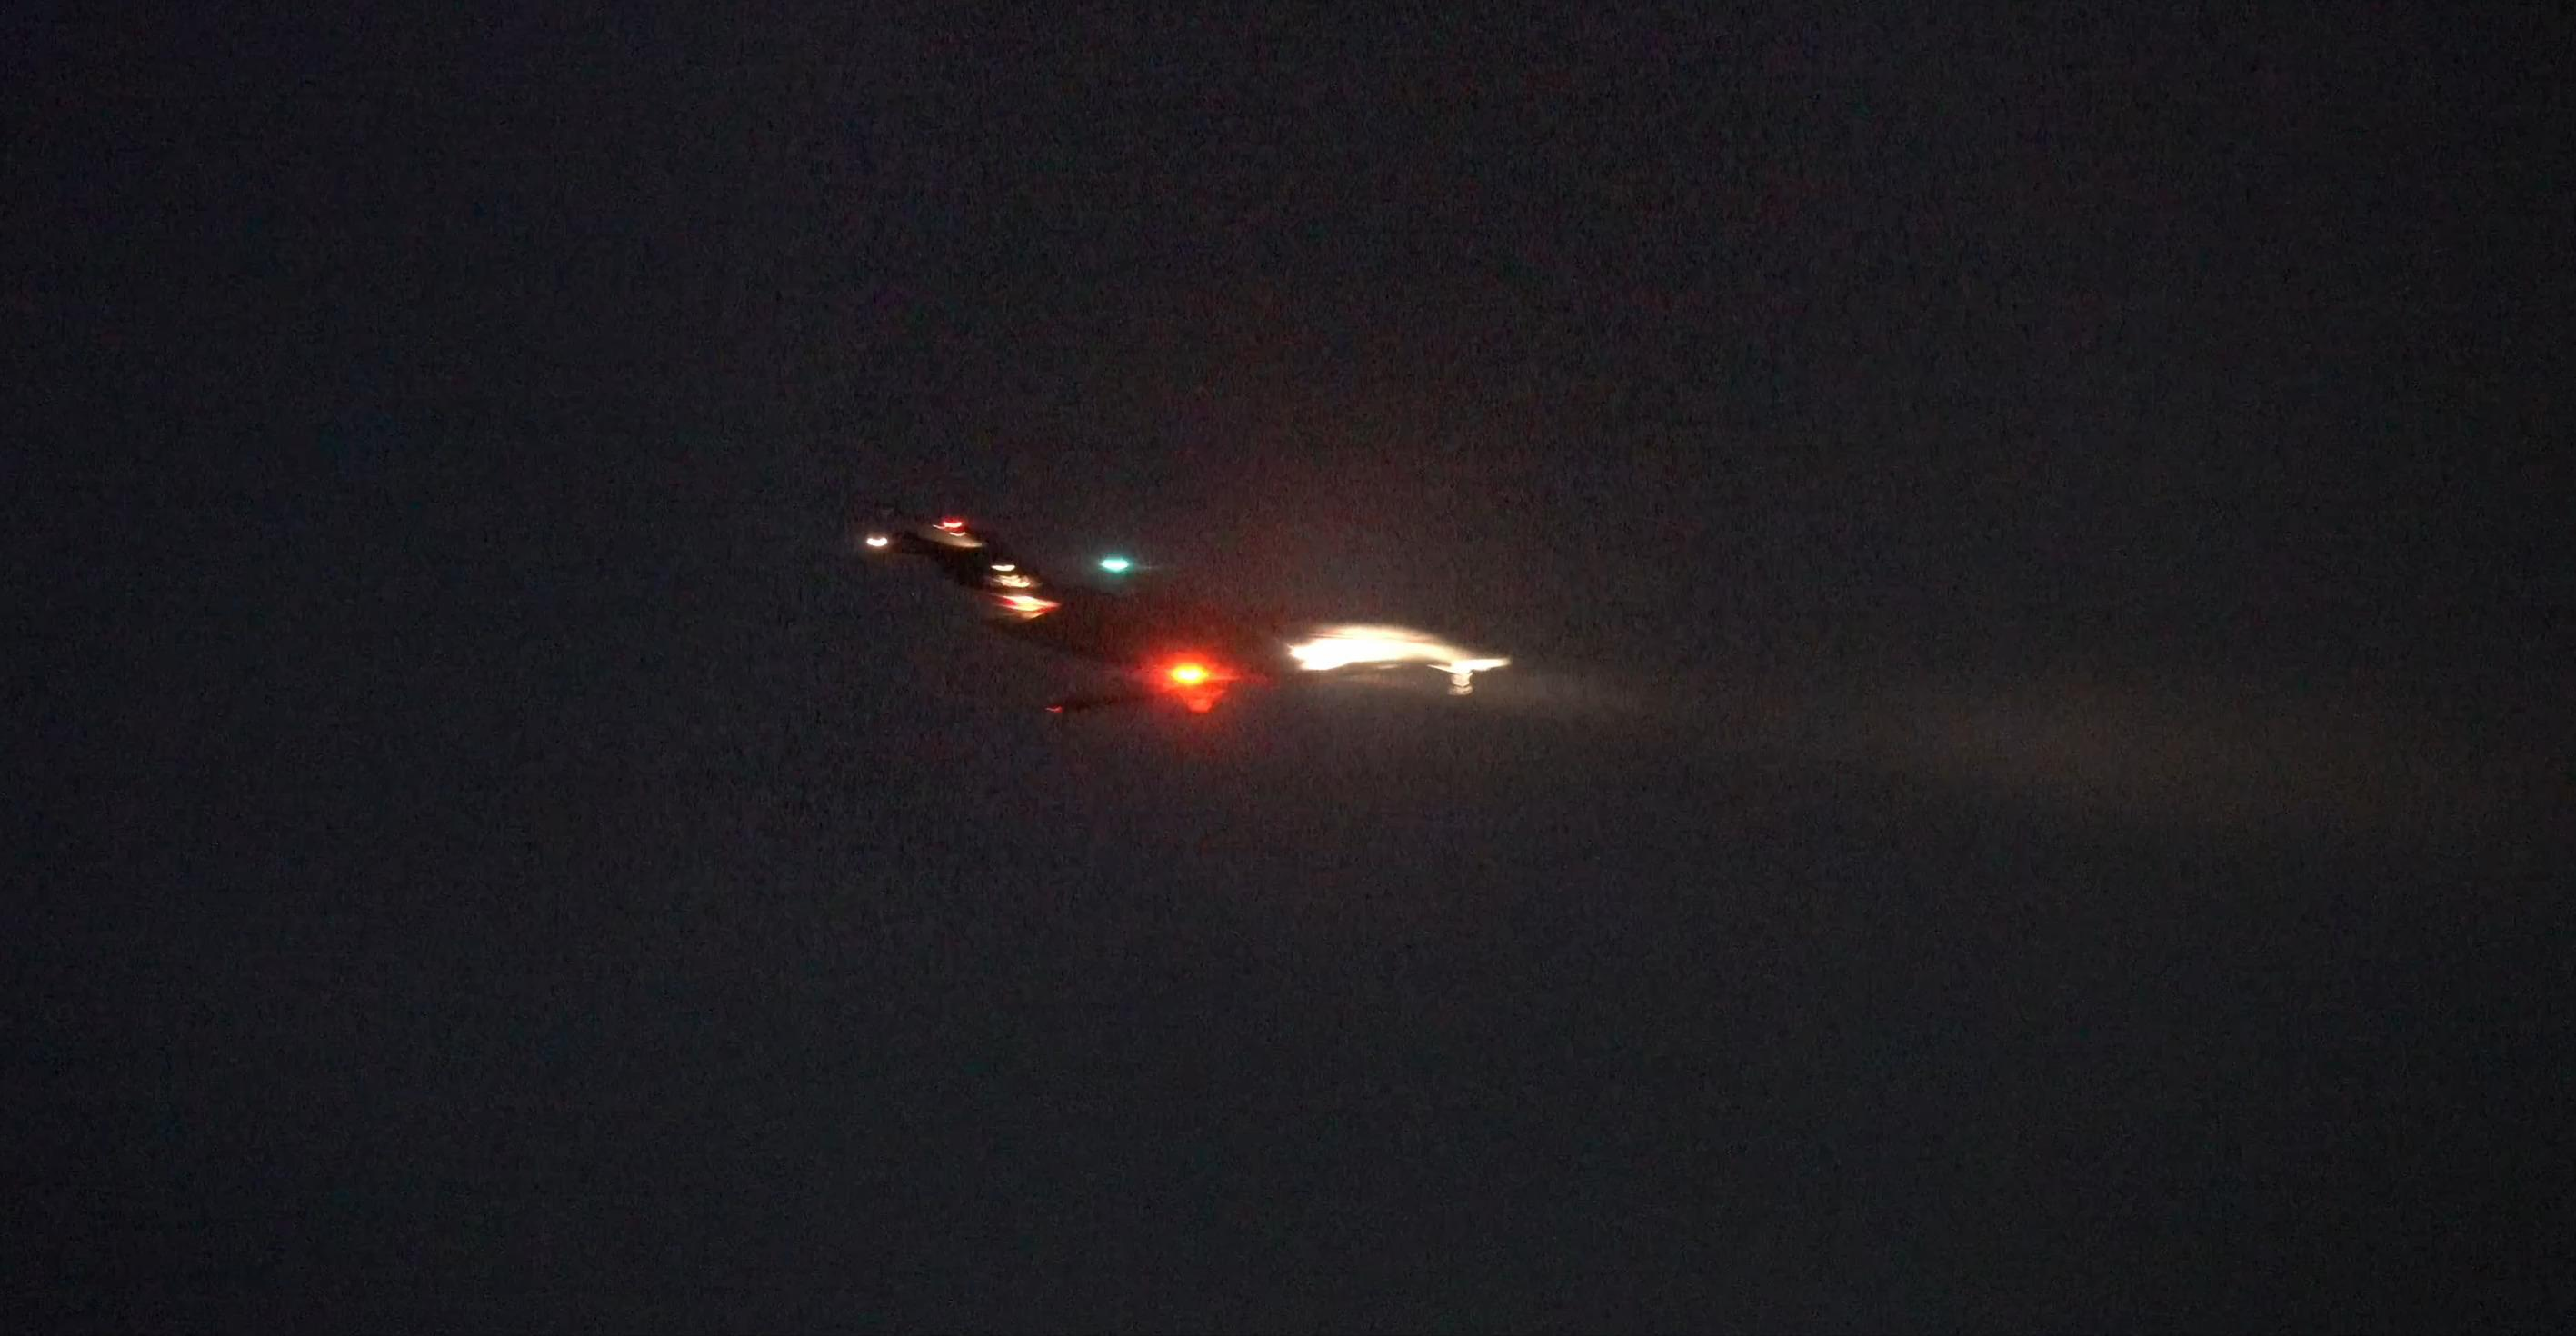Plane: (859, 477, 1455, 717)
